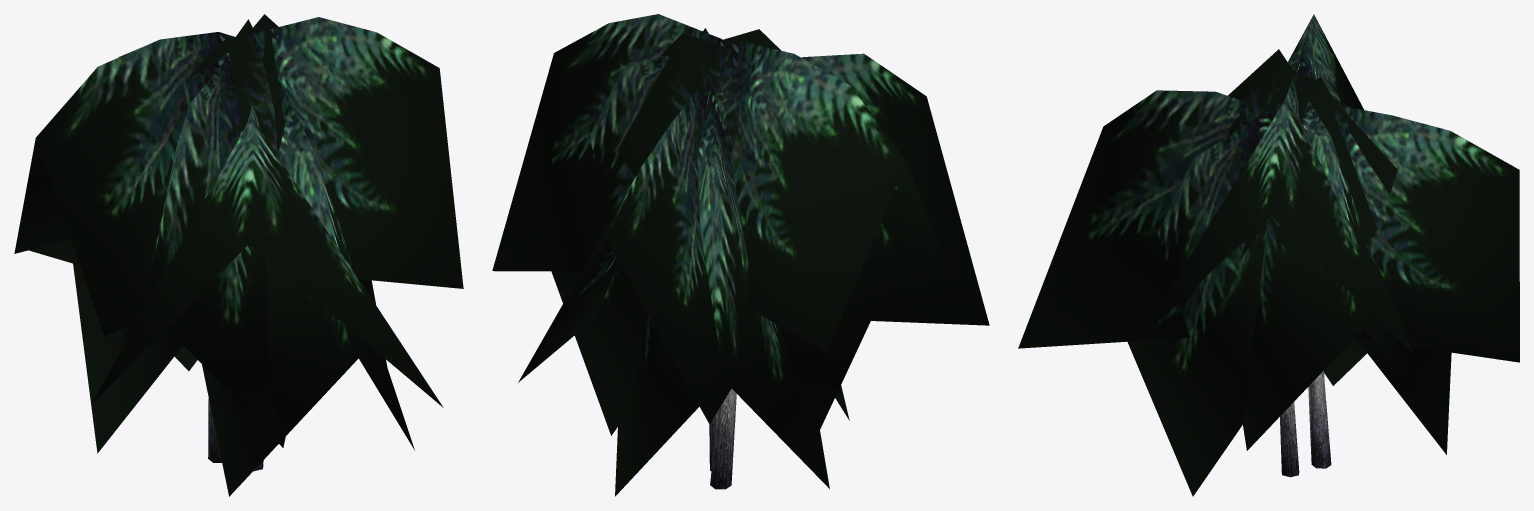
Rendered from fern_tallstalk_blue_l0.fbx.
3 renders of one model, left to right at view 1: azimuth 30°, elevation 25°; view 2: azimuth 150°, elevation 25°; view 3: azimuth 270°, elevation 25°, orthographic. The views are drawn at different scales.
Parts seen in each view (by area): view 1: mesh_node; view 2: mesh_node; view 3: mesh_node.
Part boxes in pixels (x1,y1,x2,y2): mesh_node: (14, 14, 463, 496); mesh_node: (492, 14, 989, 496); mesh_node: (1018, 14, 1519, 496).
Size of the model in its own units: 11.26 by 12.15 by 13.52.
